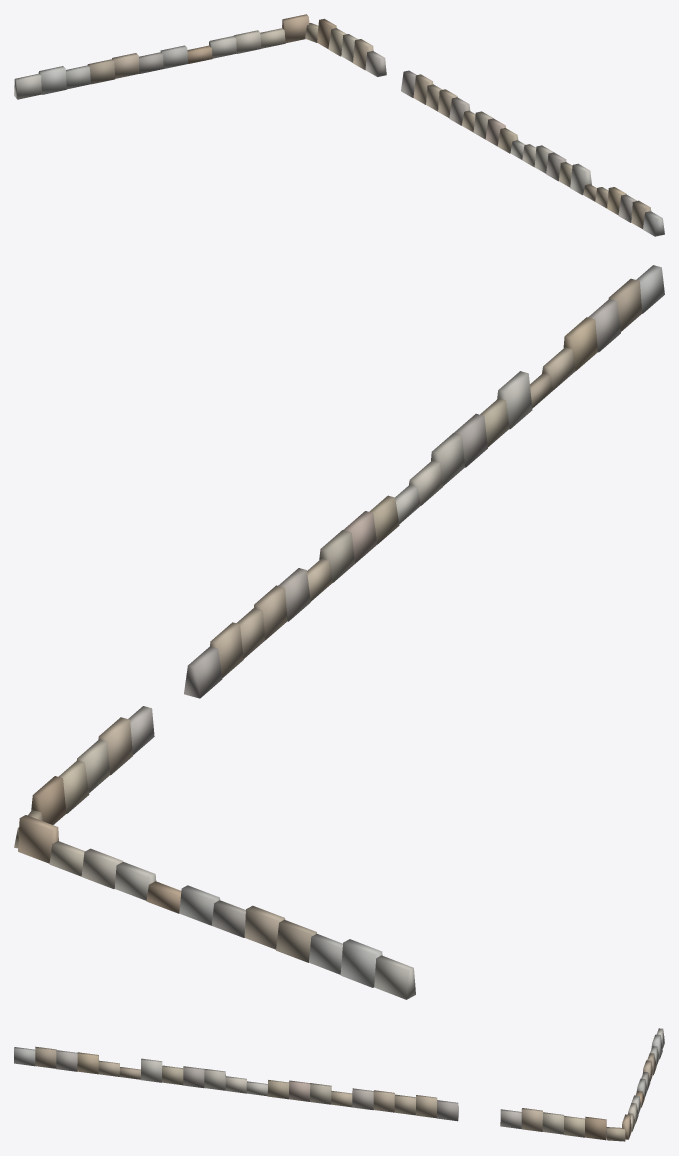
Rendered from farm_20_38_collision.glb.
3 views of the same model, one above another, from view 1: azimuth 30°, elevation 25°; view 2: azimuth 150°, elevation 25°; view 3: azimuth 270°, elevation 25° (orthographic). The views are drawn at different scales.
Parts seen in each view (by area): view 1: geometry_0; view 2: geometry_0; view 3: geometry_0.
Part boxes in pixels (x1,y1,x2,y2): geometry_0: (14,14,664,236); geometry_0: (14,265,664,999); geometry_0: (14,1028,664,1141).
Size of the model in its own units: 19.14 by 7.46 by 48.06.
